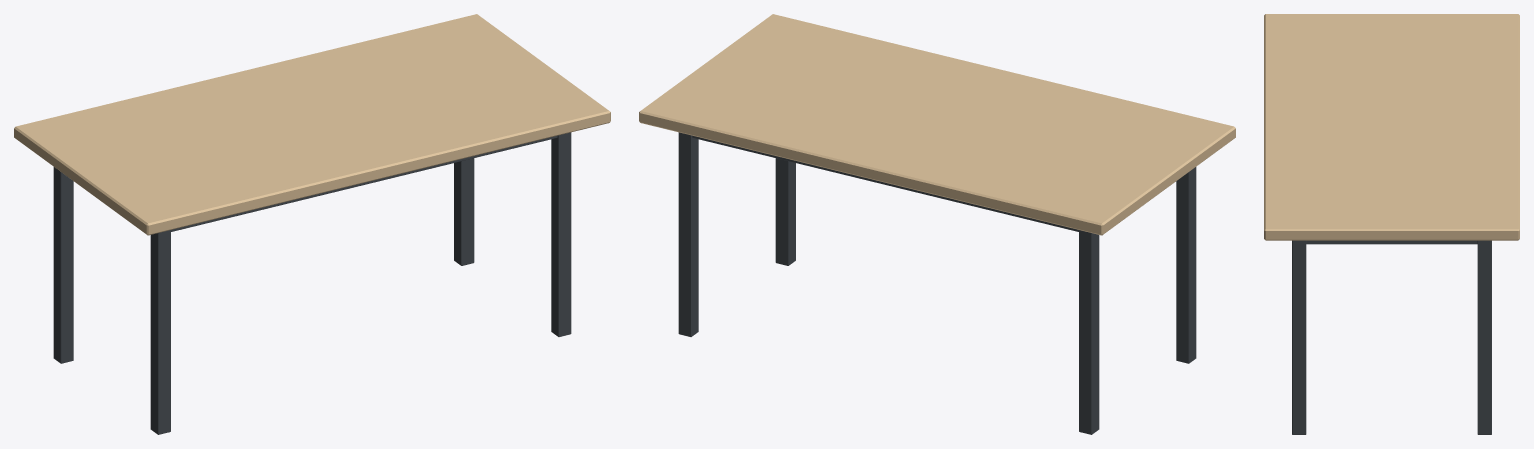
Rendered from office_desk.glb.
The picture shows the model from 3 angles, left to right: view 1: azimuth 30°, elevation 25°; view 2: azimuth 150°, elevation 25°; view 3: azimuth 270°, elevation 25°; orthographic projection. The views are drawn at different scales.
Parts seen in each view (by area): view 1: office_desk_top, office_desk_leg_left_front, office_desk_leg_right_front, office_desk_leg_left_back, office_desk_leg_right_back, office_desk_rail_front; view 2: office_desk_top, office_desk_leg_left_back, office_desk_leg_right_back, office_desk_leg_left_front, office_desk_leg_right_front, office_desk_rail_back; view 3: office_desk_top, office_desk_leg_right_front, office_desk_leg_right_back, office_desk_rail_right.
Part boxes in pixels (<box>): office_desk_top: <box>14,14,610,235</box>; office_desk_leg_left_front: <box>150,230,170,434</box>; office_desk_leg_right_front: <box>551,132,571,336</box>; office_desk_leg_left_back: <box>53,167,73,363</box>; office_desk_leg_right_back: <box>454,158,474,265</box>; office_desk_rail_front: <box>171,135,557,231</box>; office_desk_top: <box>639,14,1235,235</box>; office_desk_leg_left_back: <box>1079,230,1099,434</box>; office_desk_leg_right_back: <box>678,132,698,336</box>; office_desk_leg_left_front: <box>1176,167,1196,363</box>; office_desk_leg_right_front: <box>775,158,795,265</box>; office_desk_rail_back: <box>692,135,1093,234</box>; office_desk_top: <box>1264,14,1519,240</box>; office_desk_leg_right_front: <box>1292,240,1306,434</box>; office_desk_leg_right_back: <box>1477,240,1491,434</box>; office_desk_rail_right: <box>1306,240,1477,244</box>.
Bounding box in the file's own units: 1.6 × 0.75 × 0.8.
